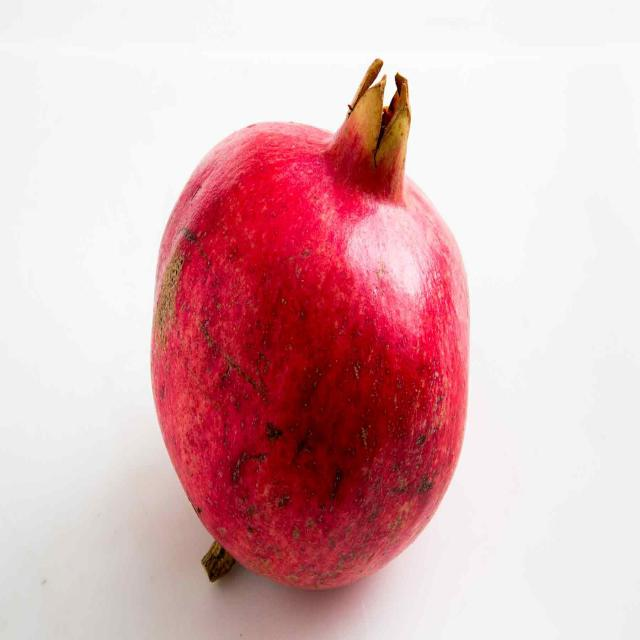pomegranate: (147, 56, 474, 594)
